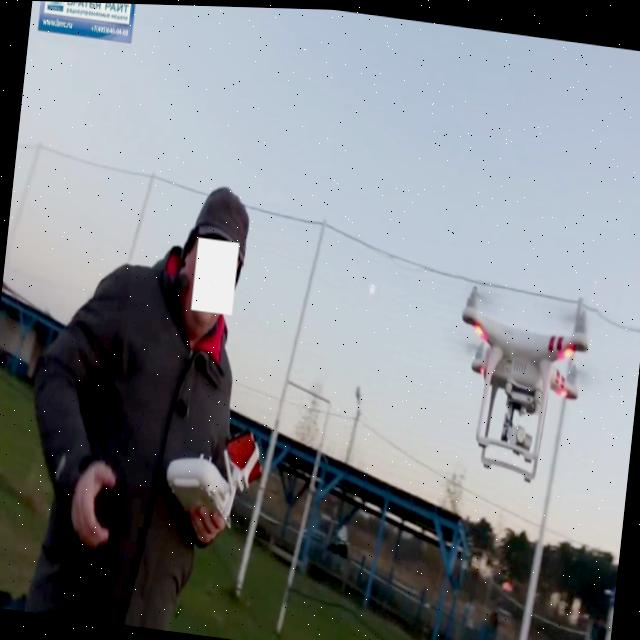drone: (441, 274, 596, 484)
